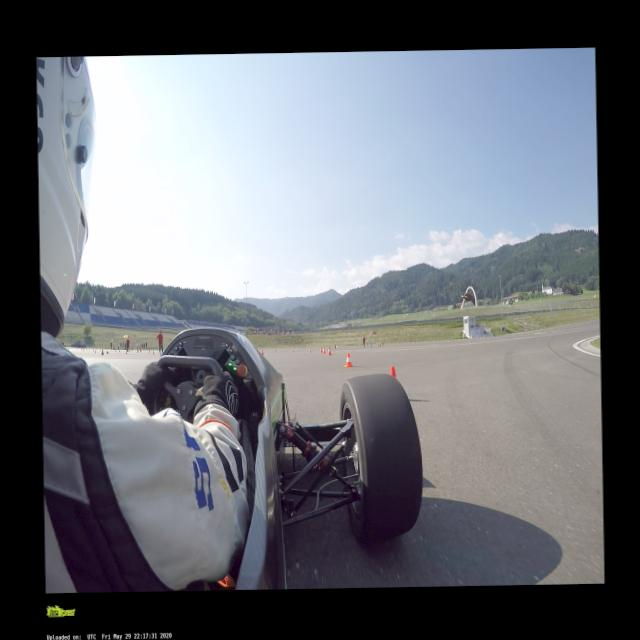orange_cone: (343, 352, 353, 367), (389, 365, 396, 378), (326, 346, 332, 354), (321, 346, 325, 354), (260, 348, 264, 354), (318, 346, 322, 352), (308, 347, 311, 352), (378, 342, 381, 346), (274, 348, 276, 352), (291, 348, 293, 352), (125, 350, 127, 354)
